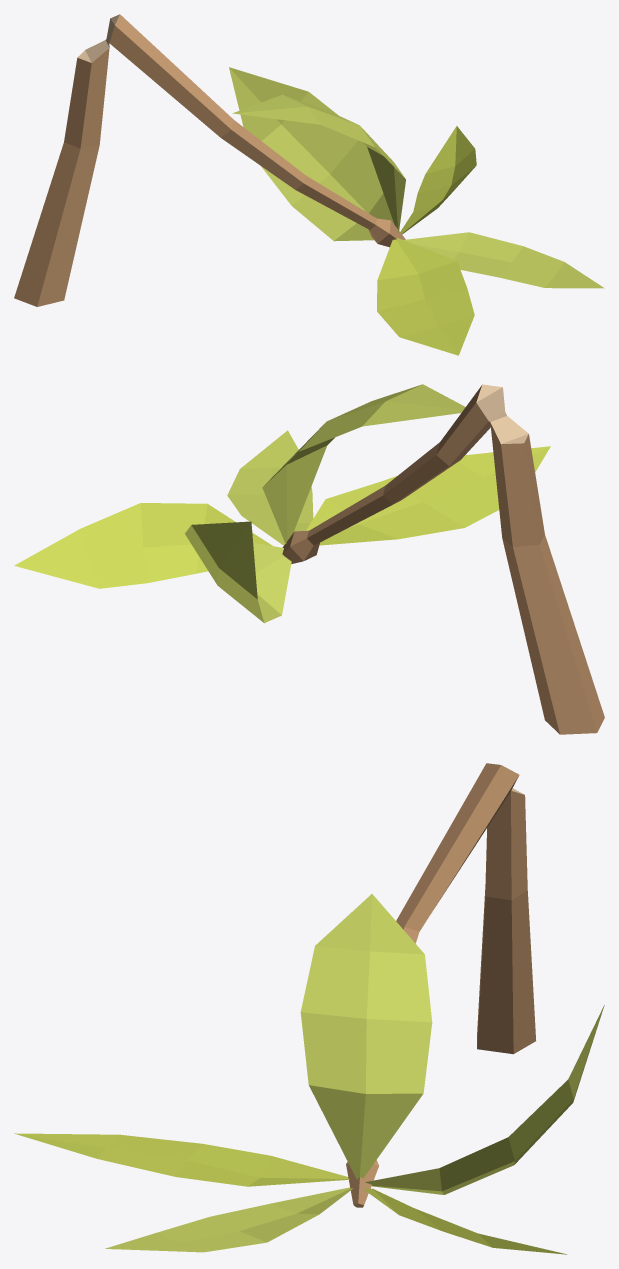
Rendered from Palm_Tree_crk_m_03.fbx.
3 views of the same model, one above another, from view 1: azimuth 30°, elevation 25°; view 2: azimuth 150°, elevation 25°; view 3: azimuth 270°, elevation 25° (orthographic). The views are drawn at different scales.
Parts seen in each view (by area): view 1: Palm_Tree_crk_m_03; view 2: Palm_Tree_crk_m_03; view 3: Palm_Tree_crk_m_03.
Part boxes in pixels (x1=…): Palm_Tree_crk_m_03: x1=14, y1=14, x2=604, y2=355; Palm_Tree_crk_m_03: x1=14, y1=384, x2=604, y2=734; Palm_Tree_crk_m_03: x1=14, y1=763, x2=604, y2=1254.
Size of the model in its own units: 452 by 244 by 404.
